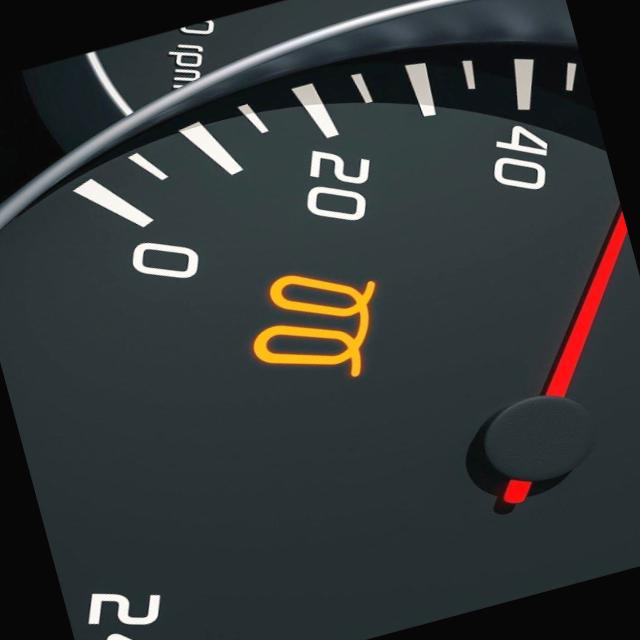kontrolka: (226, 238, 420, 412)
